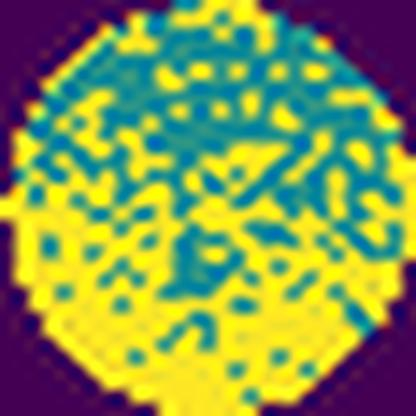Random: (0, 45, 415, 416)
